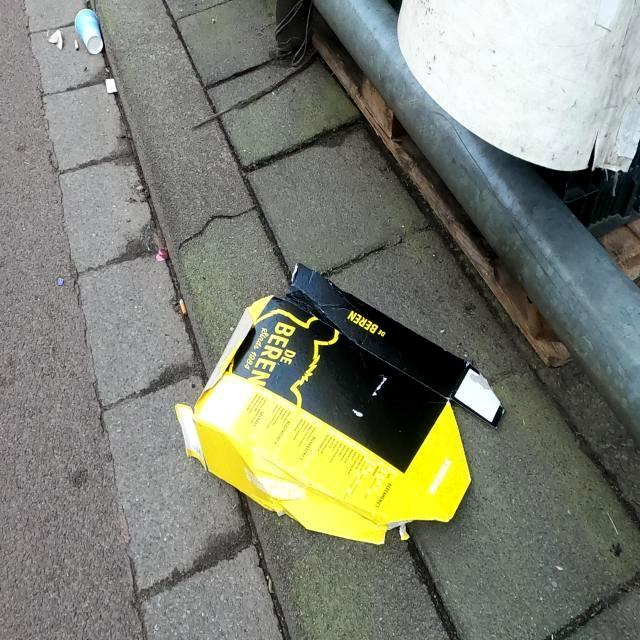Coffee Cup: (73, 8, 103, 56)
Plastic: (172, 258, 508, 546)
